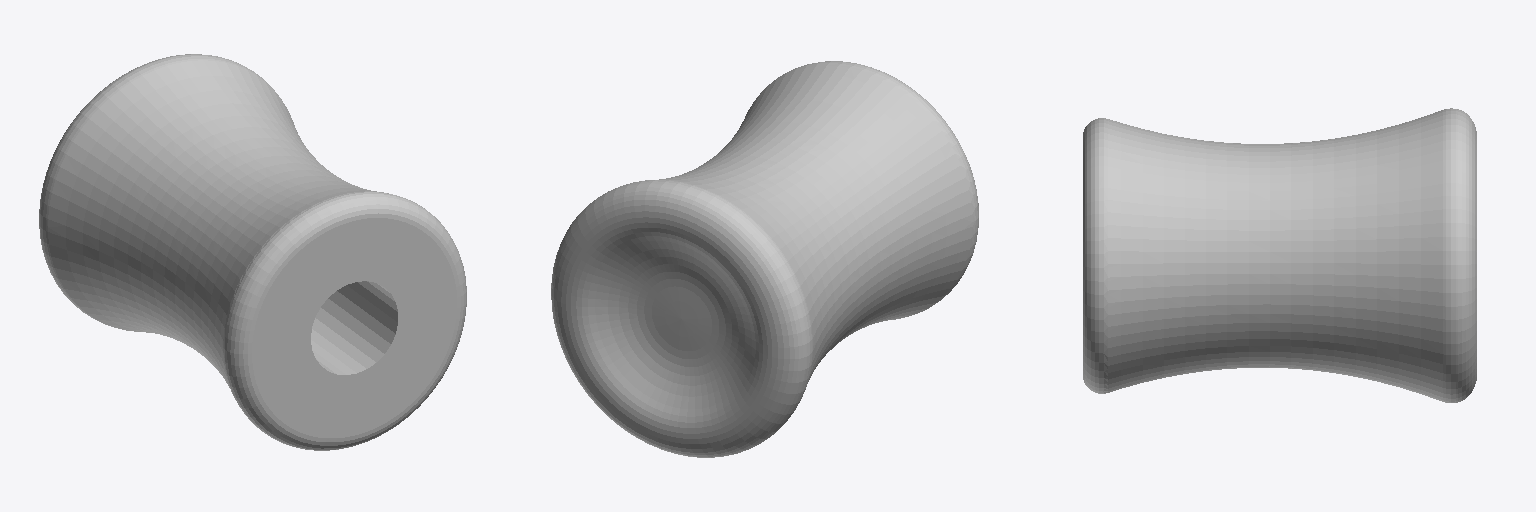
The model's file is GripRight.obj.
3 renders of one model, left to right at view 1: azimuth 30°, elevation 25°; view 2: azimuth 150°, elevation 25°; view 3: azimuth 270°, elevation 25°, orthographic.
Visible parts, largest first — view 1: ThrottleHandle; view 2: ThrottleHandle; view 3: ThrottleHandle.
Boxes of the visible parts, box(x1,y1,x2,y2) form: ThrottleHandle: box(39, 54, 466, 450); ThrottleHandle: box(551, 61, 978, 457); ThrottleHandle: box(1083, 108, 1476, 402).
Size of the model in its own units: 0.0303 by 0.0303 by 0.0405.